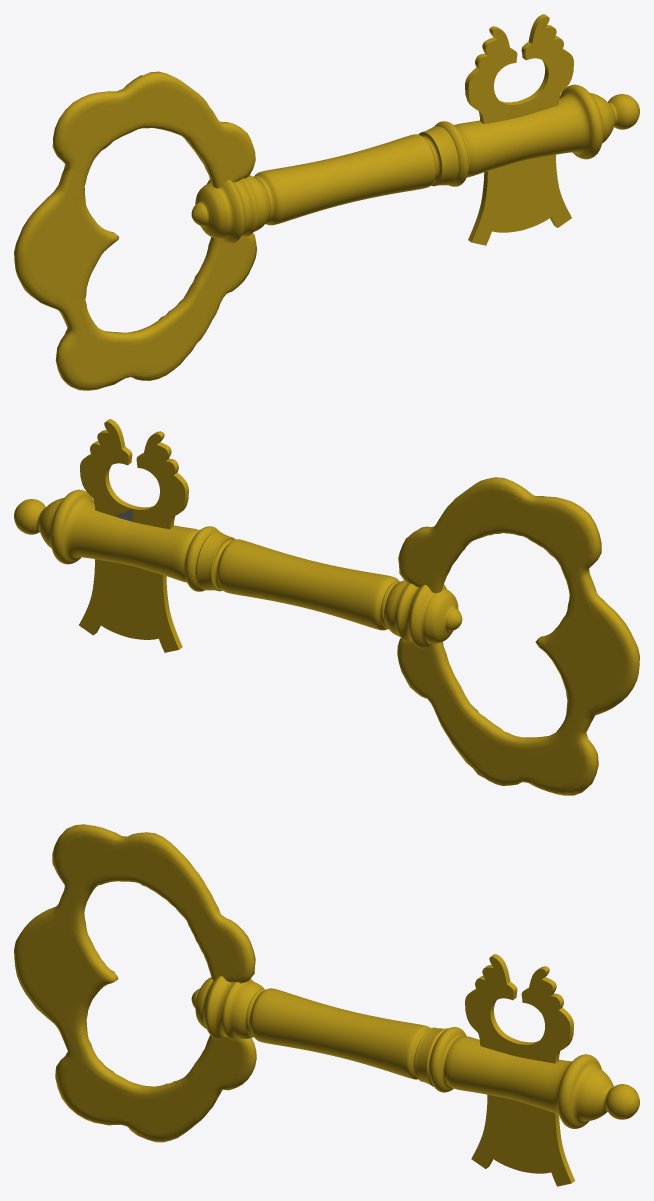
Rendered from key1.fbx.
The picture shows the model from 3 angles, top to bottom: view 1: azimuth 30°, elevation 25°; view 2: azimuth 150°, elevation 25°; view 3: azimuth 330°, elevation 25°; orthographic projection.
Parts seen in each view (by area): view 1: Cylinder020; view 2: Cylinder020; view 3: Cylinder020.
Part boxes in pixels (x1,y1,x2,y2): Cylinder020: (14, 14, 639, 390); Cylinder020: (14, 419, 639, 795); Cylinder020: (14, 824, 639, 1186).
Size of the model in its own units: 85.03 by 39.97 by 8.99.
